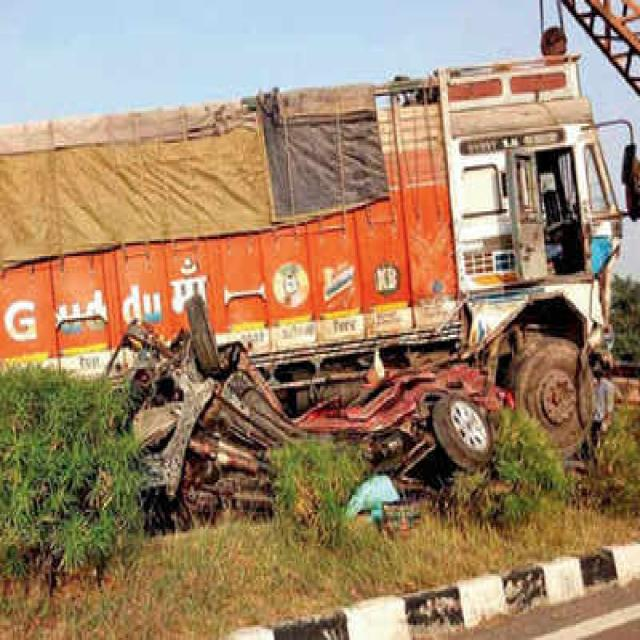accident: (108, 295, 506, 529)
truck: (0, 55, 622, 442)
